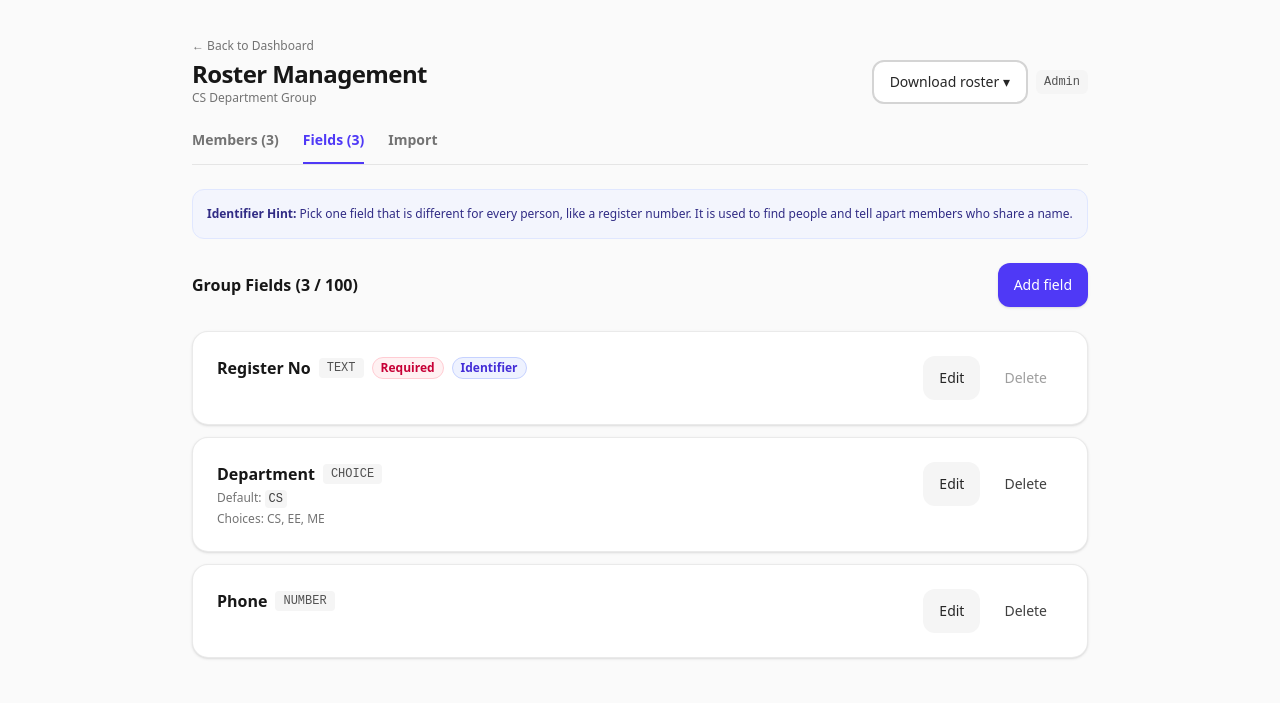
Test: RosterPage › Fields Tab › lists fields, disables delete for identifier, adds a field, edits a field, and shows offending members when identifier is refused
expect the heading "Register No" is shown: met, box 217,356 -> 311,380
expect the heading "Department" is shown: met, box 217,462 -> 315,486
Add a field
Click the button "Add field" at (1043, 284), box 998,262 -> 1088,306
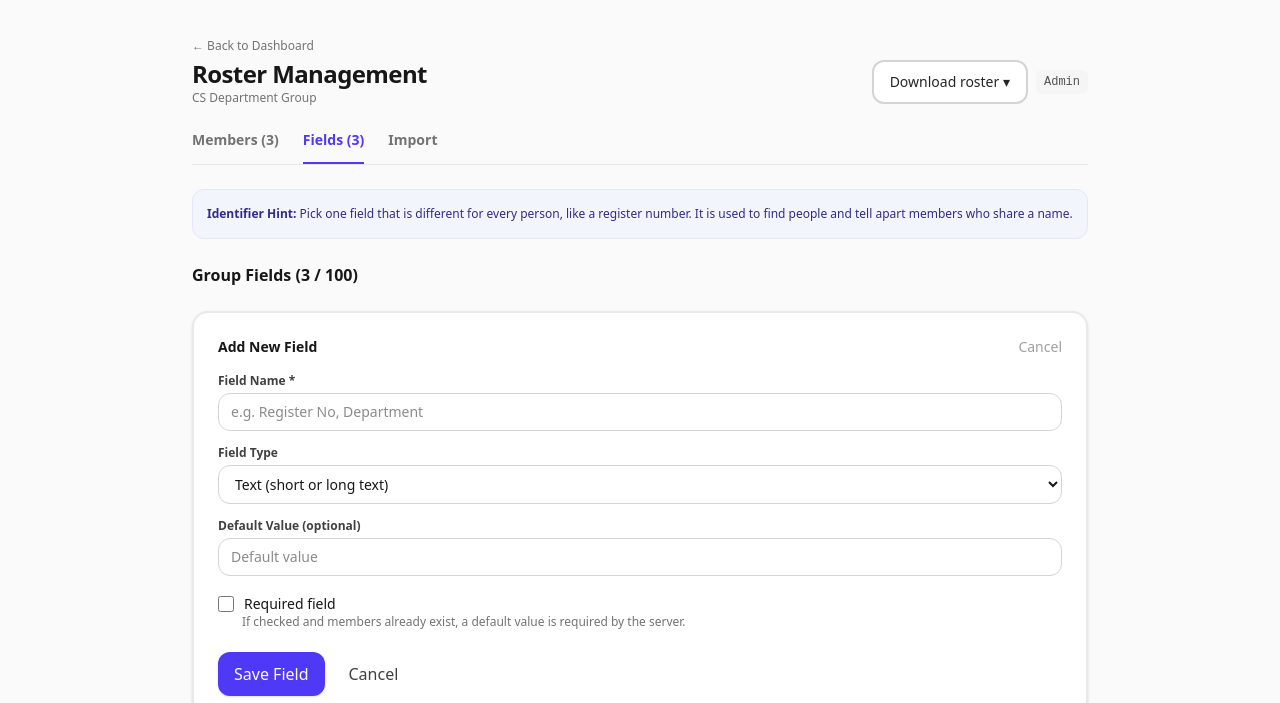
expect the heading "Add New Field" is shown: met, box 218,336 -> 317,356
Type "Notes" into the field labelled "Field Name *" at (640, 412), box 218,392 -> 1062,430
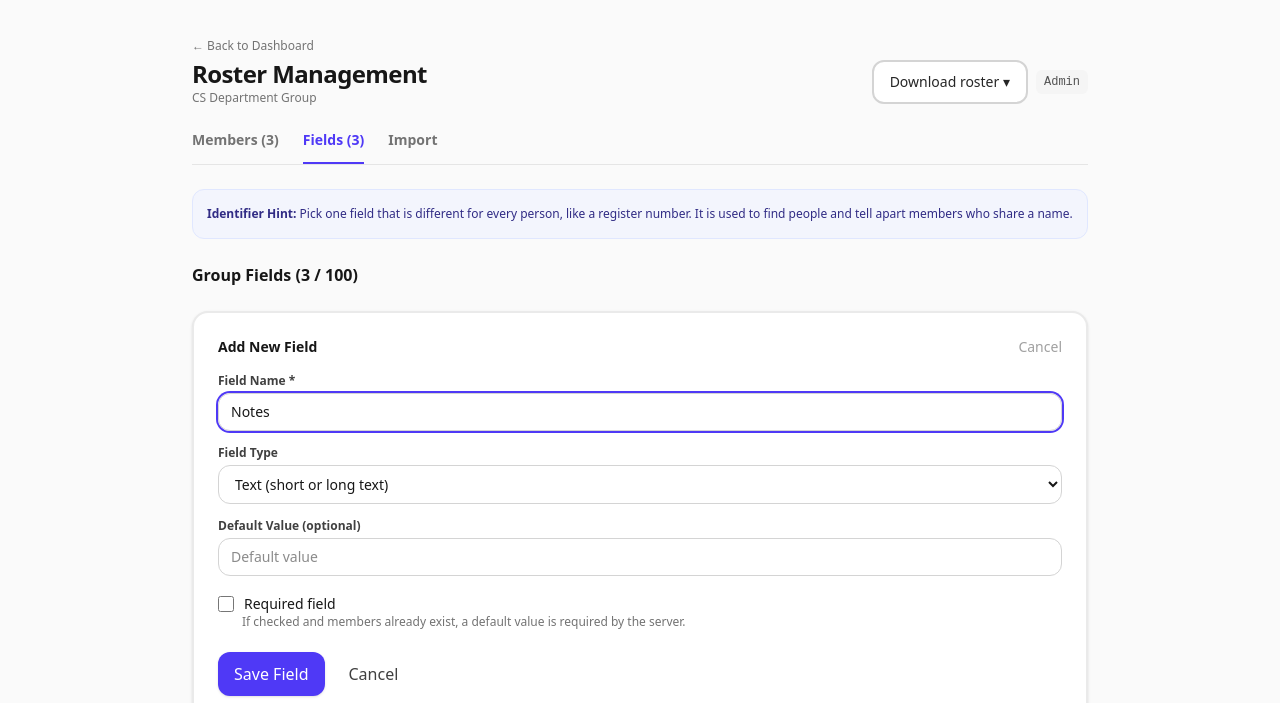
Click the button "Save Field" at (271, 674), box 218,652 -> 324,696
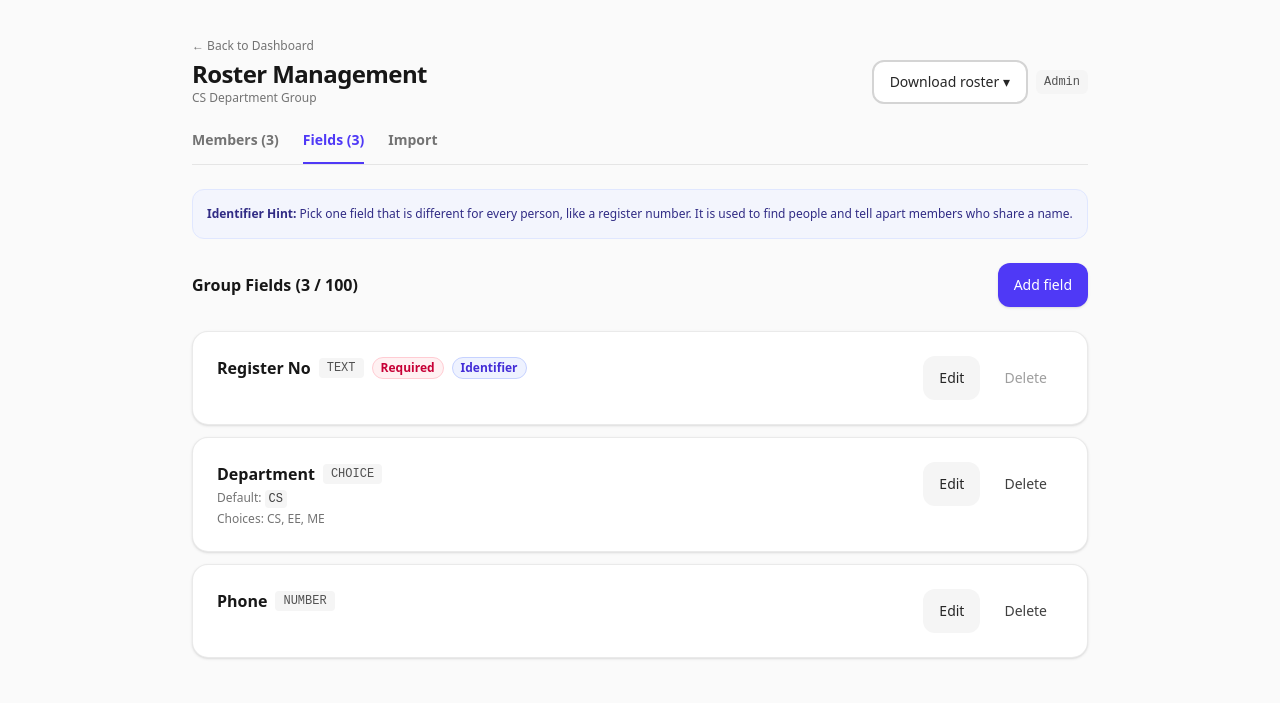
Edit a field
Click the button "Edit" in the row of "Required" at (952, 378), box 923,356 -> 980,400
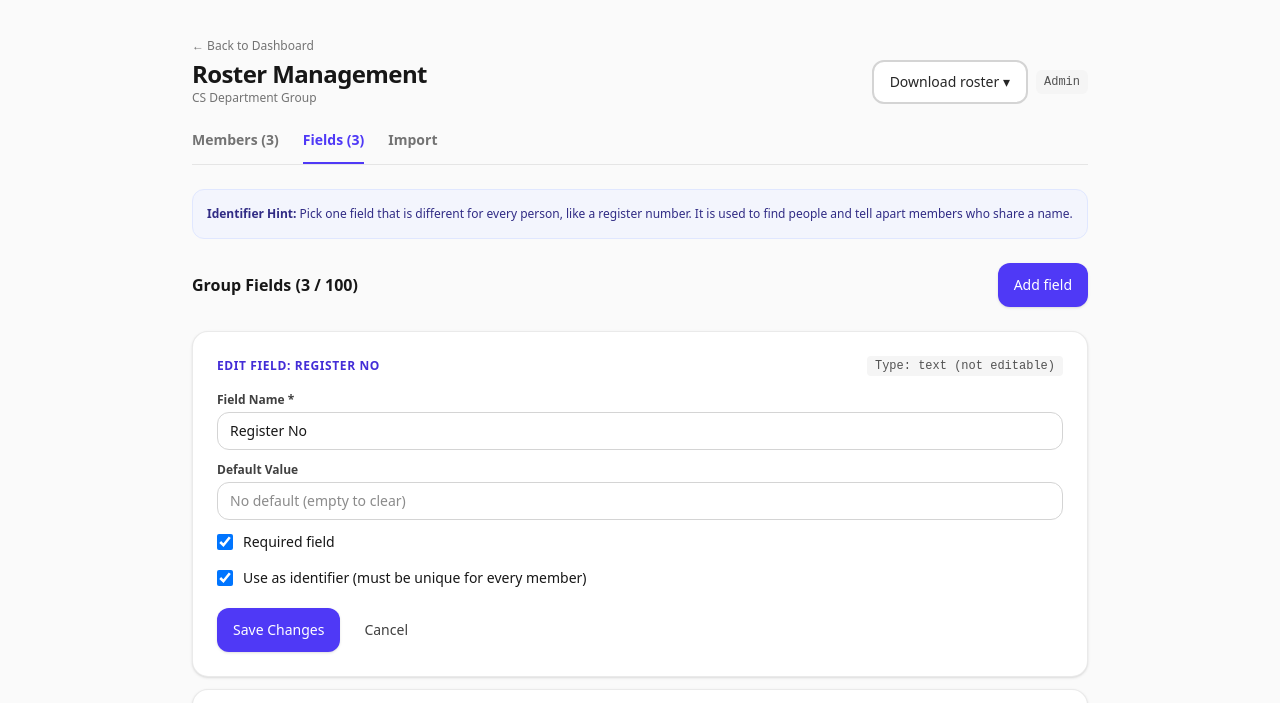
expect the text "Edit Field: Register No" is shown: met, box 217,358 -> 380,374
expect the text "Type: text (not editable)" is shown: met, box 867,356 -> 1063,376
Click the button "Save Changes" at (279, 630), box 217,608 -> 340,652
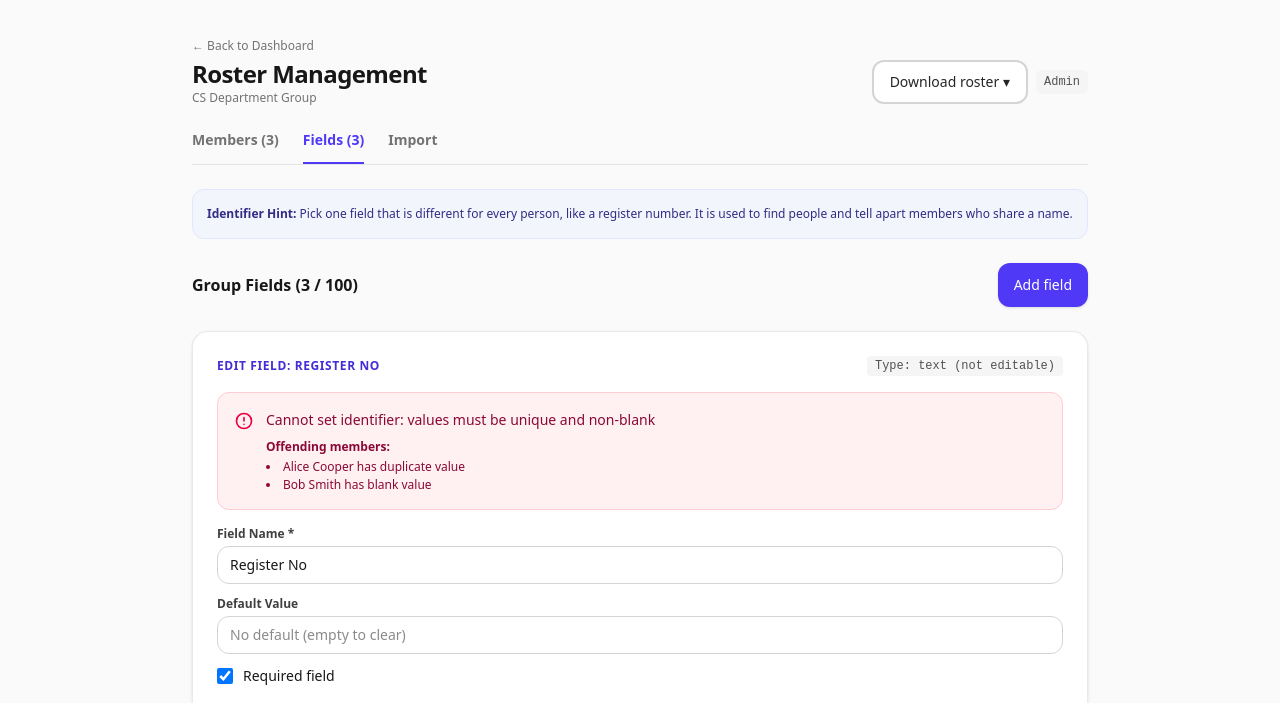
expect the text "Cannot set identifier: values must be unique and non-blank" is shown: met, box 266,410 -> 655,428
expect the list item "Alice Cooper has duplicate value" is shown: met, box 283,458 -> 465,475
expect the list item "Bob Smith has blank value" is shown: met, box 283,476 -> 432,493
